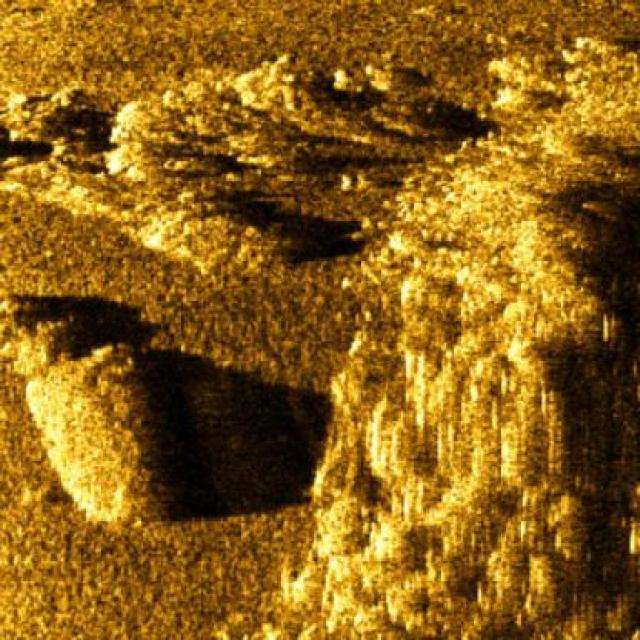bedrock group: (302, 30, 640, 639), (0, 32, 343, 283)
